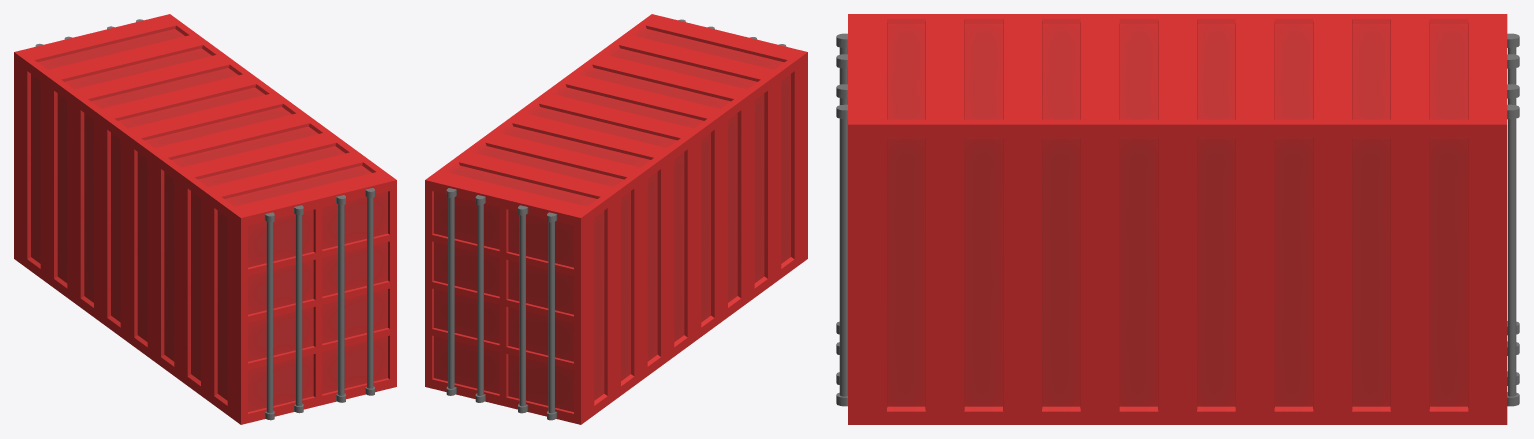
3 renders of one model, left to right at view 1: azimuth 30°, elevation 25°; view 2: azimuth 150°, elevation 25°; view 3: azimuth 270°, elevation 25°, orthographic. The views are drawn at different scales.
Parts seen in each view (by area): view 1: Box051, Cylinder011; view 2: Box051, Cylinder011; view 3: Box051, Cylinder011.
Part boxes in pixels (x1,y1,x2,y2): Box051: (14, 14, 396, 424); Cylinder011: (35, 19, 374, 420); Box051: (425, 14, 807, 424); Cylinder011: (446, 19, 786, 420); Box051: (848, 14, 1507, 424); Cylinder011: (836, 33, 1519, 406).
Bounding box in the file's own units: 157 × 410 × 199.
Materials: 2 (1 with a texture image).
